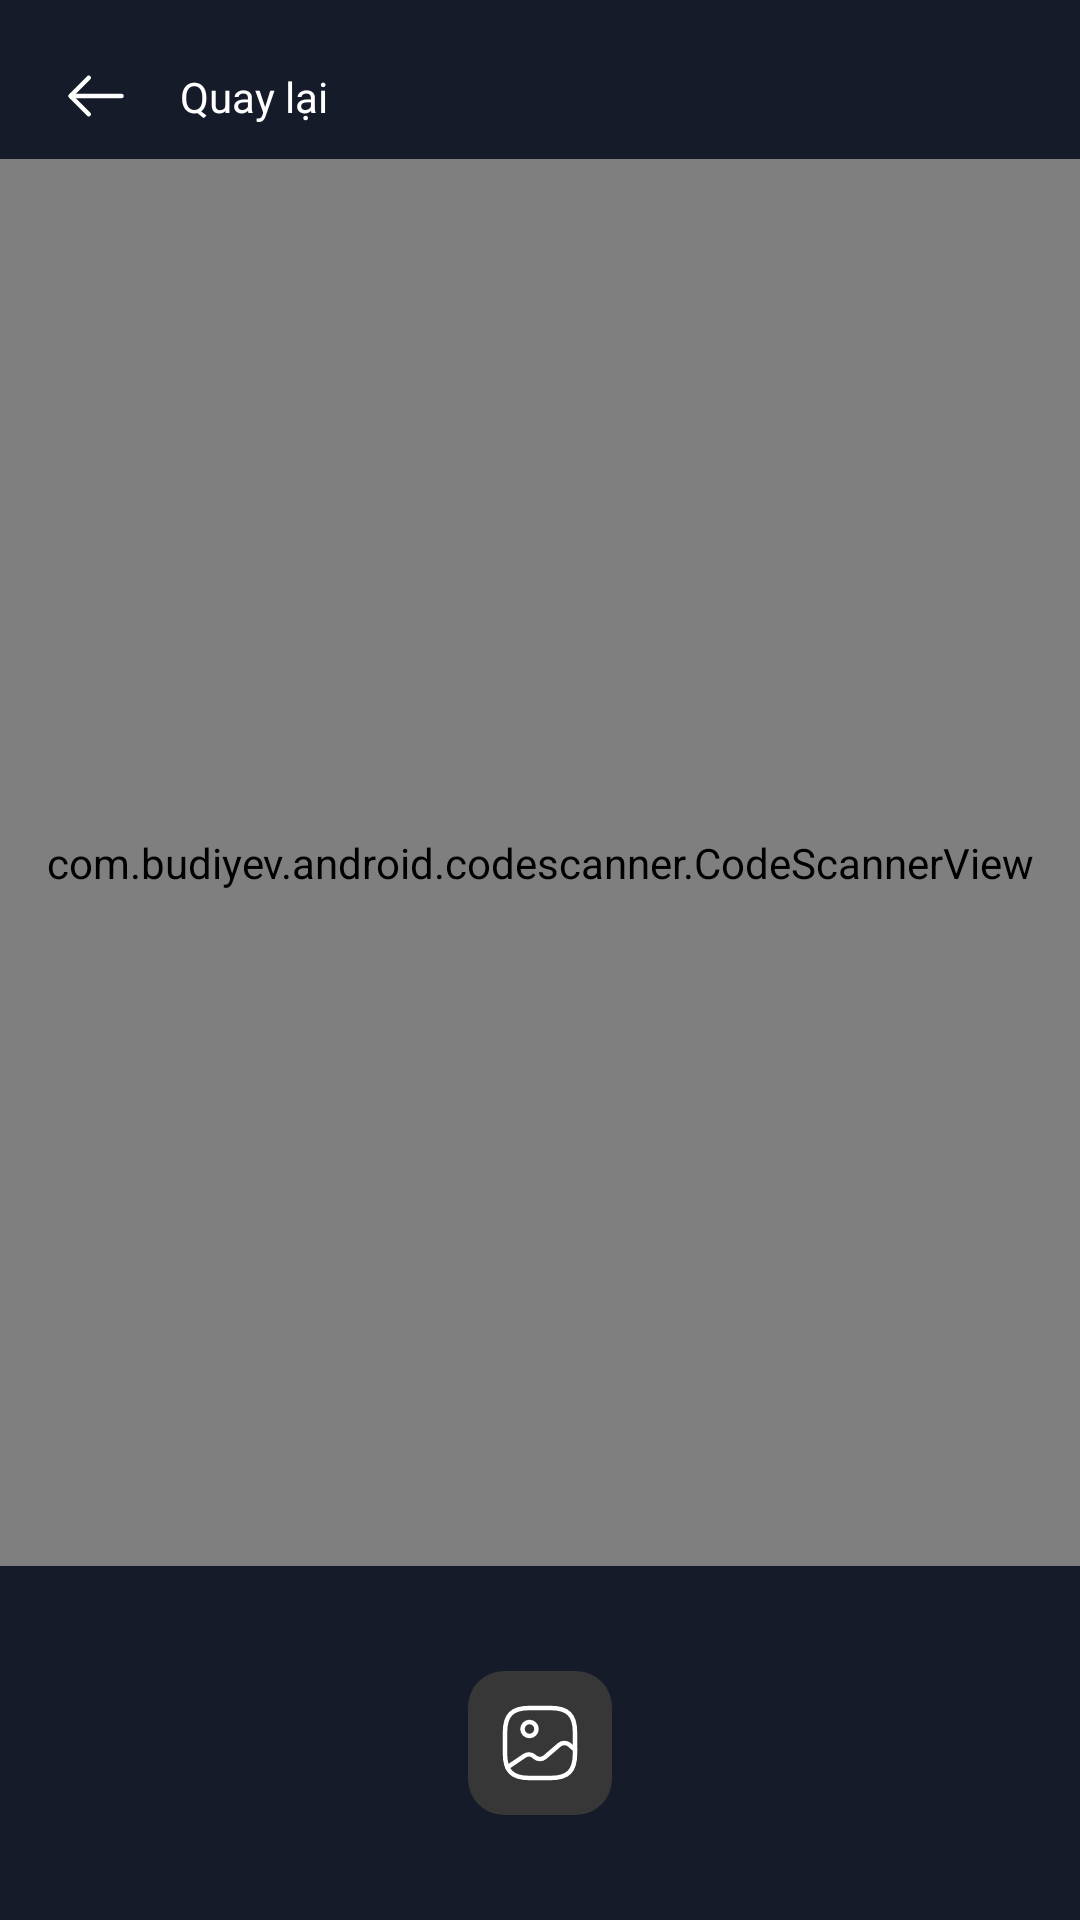

Point at icon controls on the screen. Image size 1080 x 1920, points as (x=x, y=y).
album qrcode: (x=540, y=1743)
back: (x=96, y=96)
